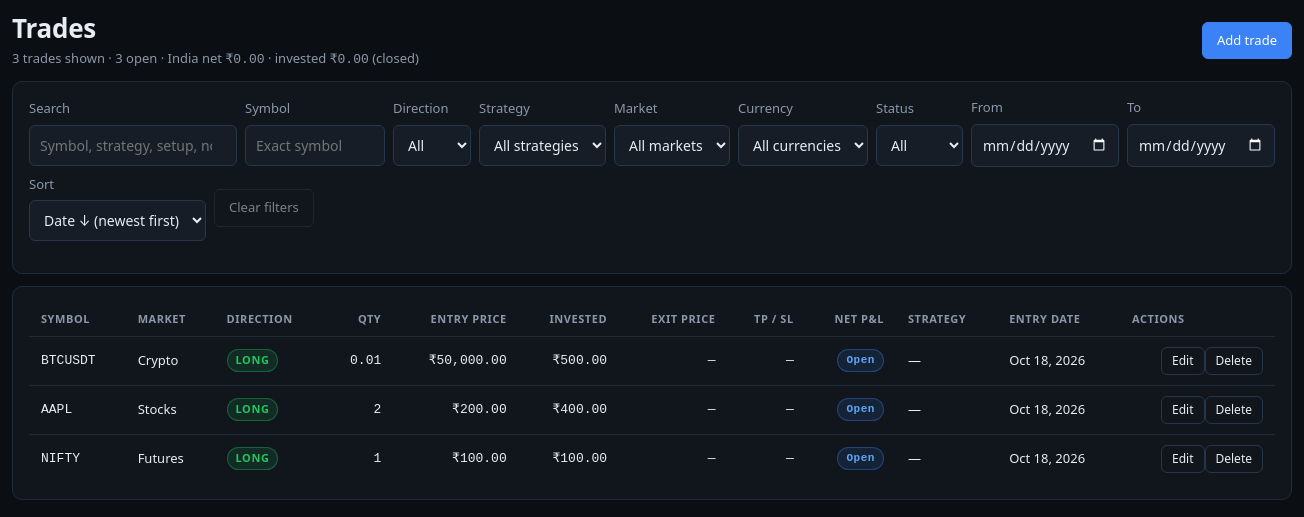
Scenario: trades page market filter › filters by market segment and clears back to all
Check: the text "3 trades shown" is shown, box [12,48,419,69]
Select "Futures" in the dropdown labelled "Market". click: [672, 145]
box: [614,124,730,166]
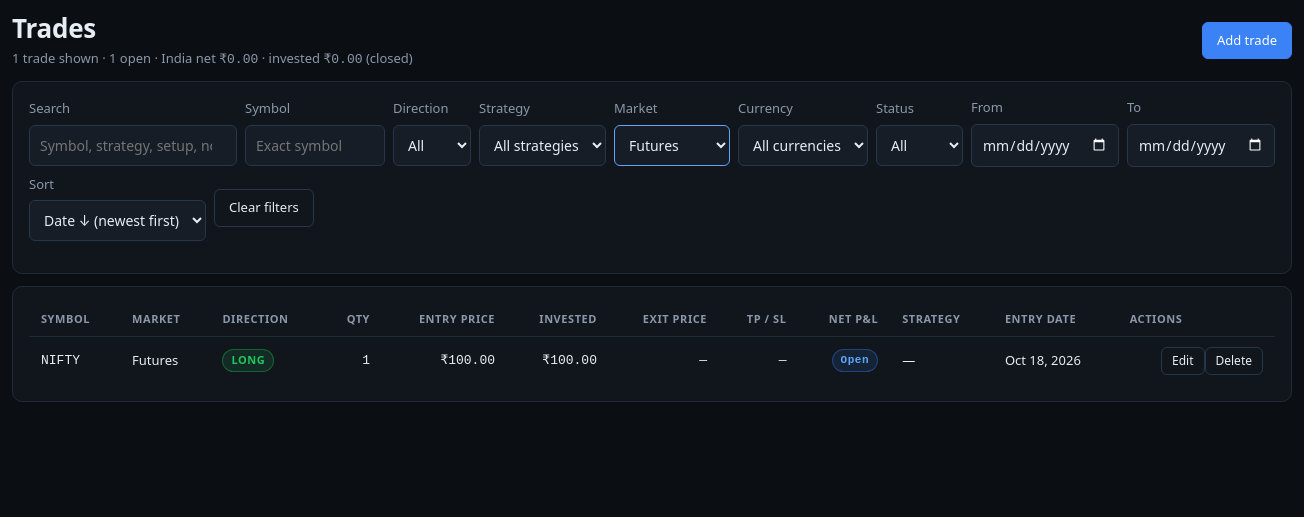
Check: the text "1 trade shown" is shown, box [12,48,413,69]
Check: the text "3 trades shown" is gone
Select "All markets" in the dropdown labelled "Market". click: [672, 145]
box: [614,124,730,166]
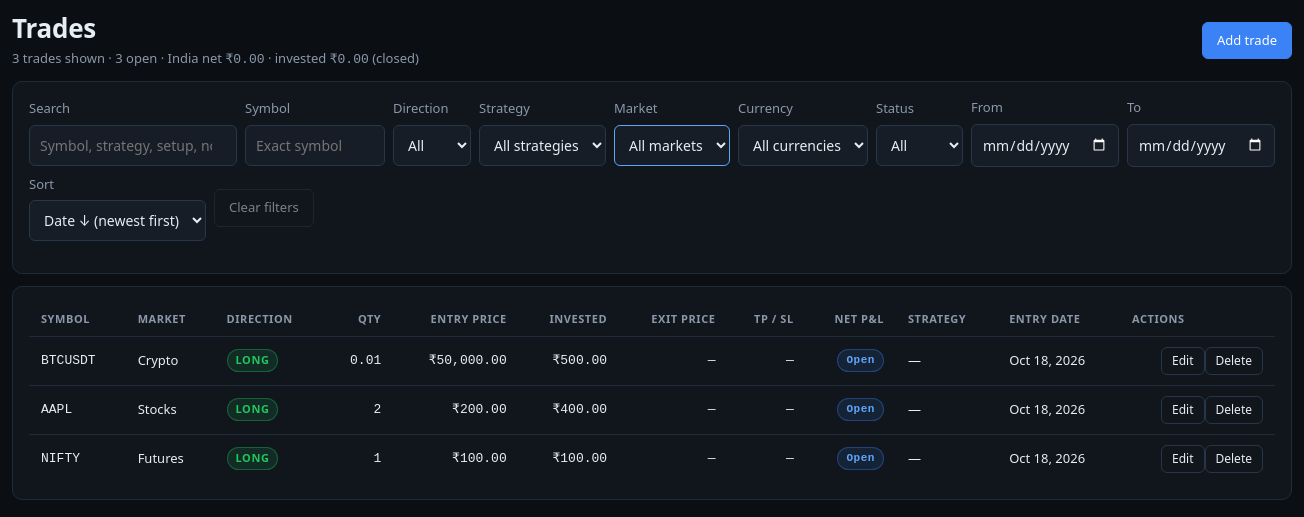
Check: the text "3 trades shown" is shown, box [12,48,419,69]
